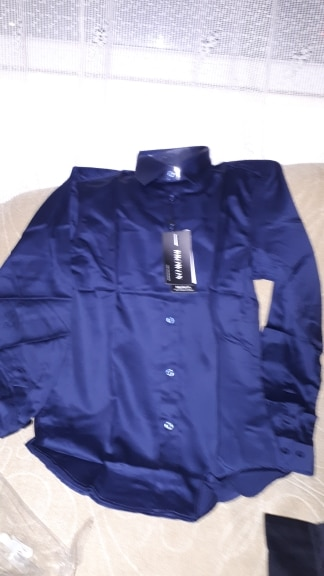shirts: (12, 143, 324, 502)
